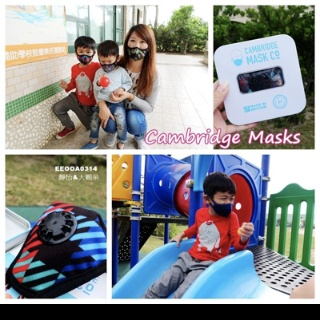with_mask: (212, 193, 236, 220), (125, 35, 148, 62), (75, 48, 94, 66), (99, 57, 117, 74)
